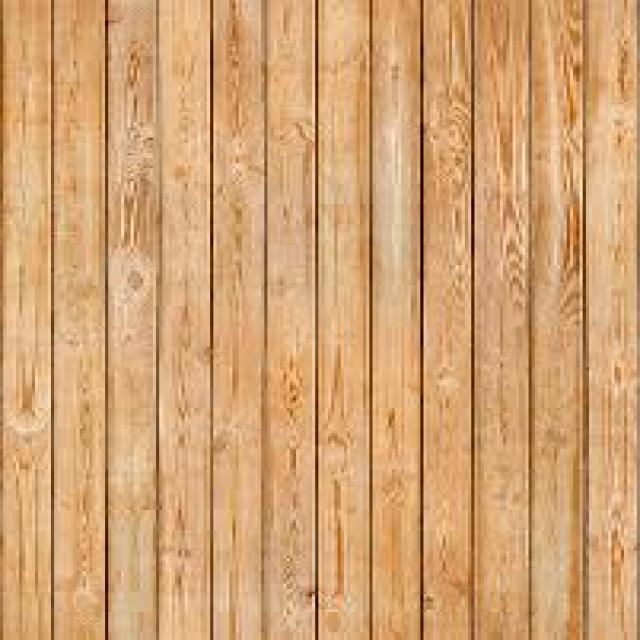perfect-wooden-plate: (524, 0, 582, 639), (473, 0, 529, 639), (584, 0, 638, 639), (53, 0, 106, 640), (158, 0, 211, 639), (261, 0, 314, 639), (421, 0, 473, 639), (2, 0, 52, 639), (212, 0, 262, 639), (318, 0, 368, 639), (108, 0, 156, 639), (372, 0, 420, 639)
